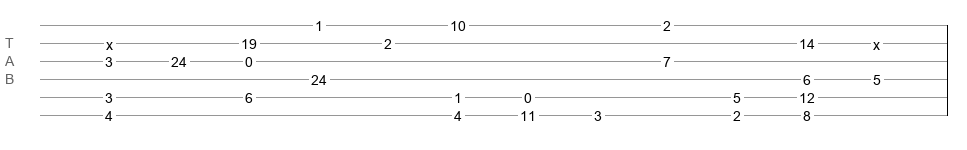0: (245, 54, 253, 64), (524, 90, 532, 100)
1: (315, 18, 323, 28), (454, 90, 462, 100)
10: (450, 18, 466, 28)
11: (520, 108, 536, 118)
12: (799, 90, 815, 100)
14: (799, 36, 815, 46)
19: (241, 36, 257, 46)
2: (384, 36, 392, 46), (663, 18, 671, 28), (733, 108, 741, 118)
24: (171, 54, 187, 64), (311, 72, 327, 82)
3: (105, 54, 113, 64), (105, 90, 113, 100), (594, 108, 602, 118)
4: (105, 108, 113, 118), (454, 108, 462, 118)
5: (733, 90, 741, 100), (873, 72, 881, 82)
6: (245, 90, 253, 100), (803, 72, 811, 82)
7: (663, 54, 671, 64)
8: (803, 108, 811, 118)
x: (106, 37, 113, 45), (873, 37, 880, 45)
